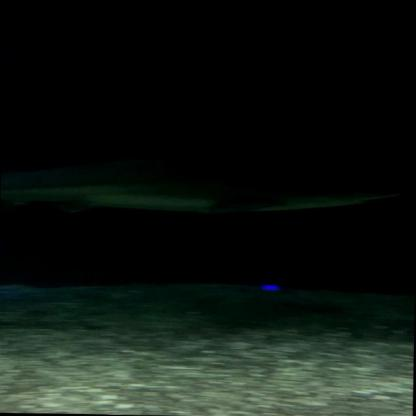shark: (0, 110, 410, 218)
